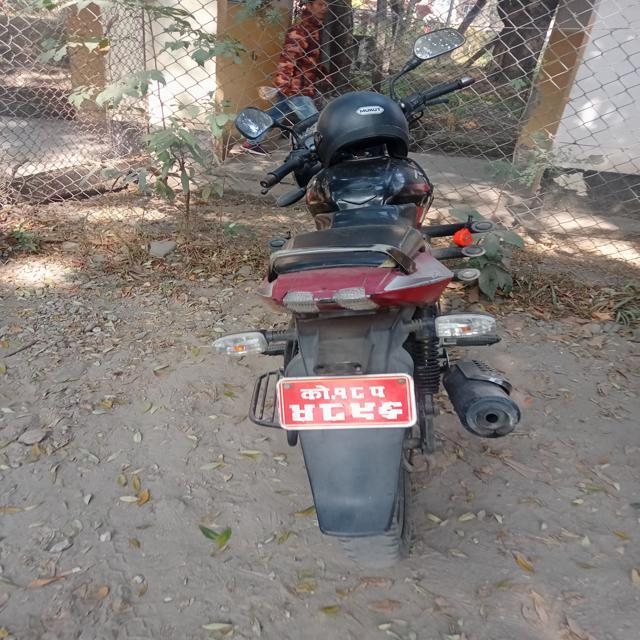license_plate: (268, 357, 433, 445)
